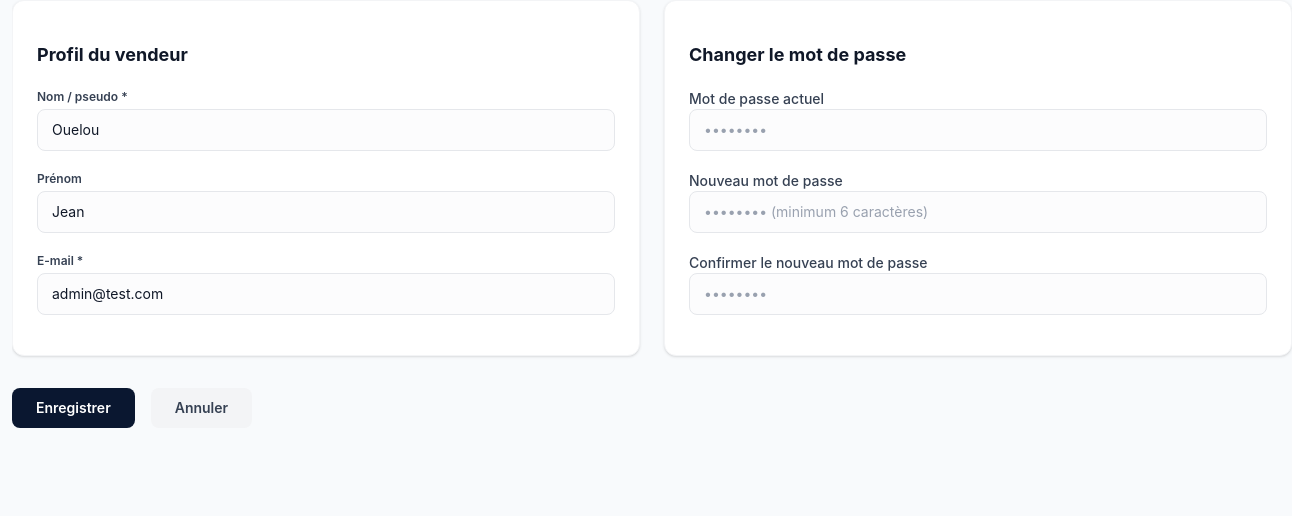
AdminProfileForm — mot de passe › rejette si newPassword !== confirmPassword
Step 1. Type "old" into the password field labelled "Mot de passe actuel" → (978, 130), box [689, 109, 1267, 151]
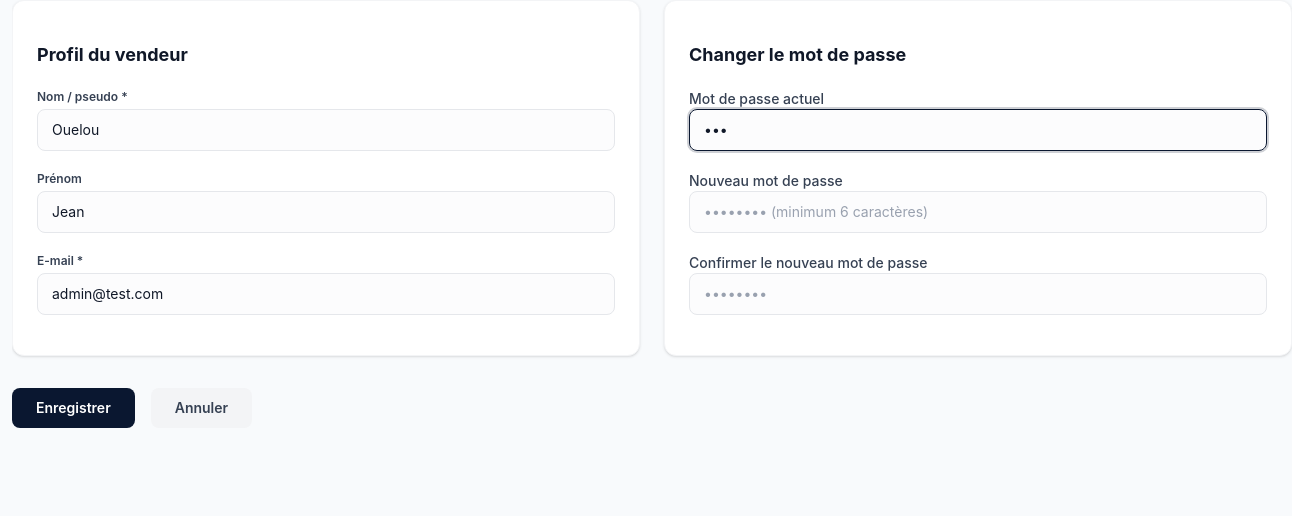
Step 2. Type "newpass123" into the password field labelled "Nouveau mot de passe" → (978, 212), box [689, 191, 1267, 233]
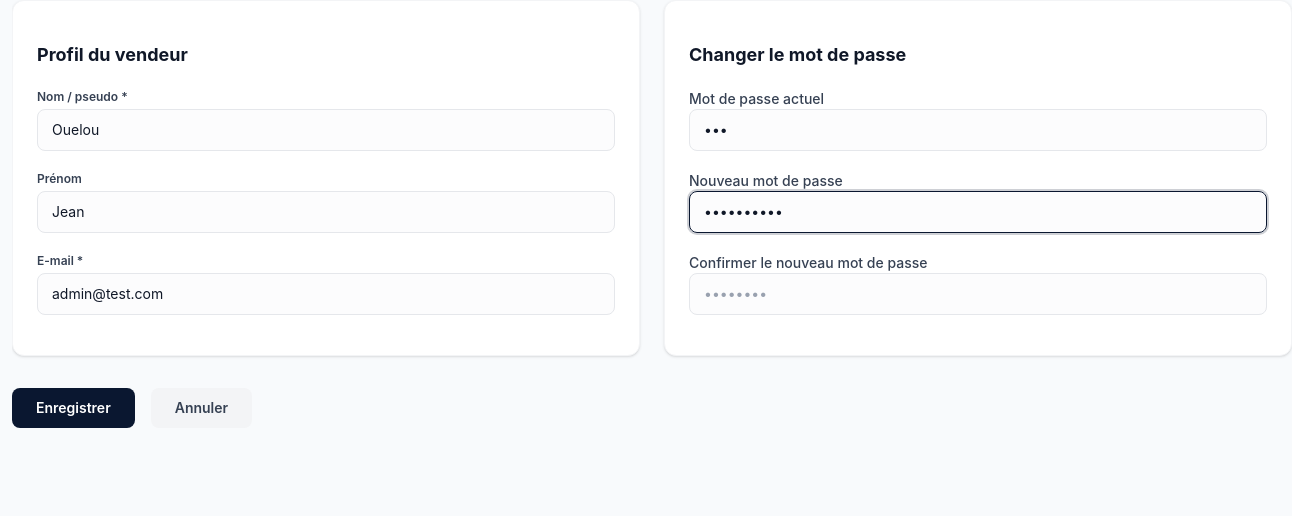
Step 3. Type "different" into the password field labelled "Confirmer le nouveau mot de passe" → (978, 294), box [689, 273, 1267, 315]
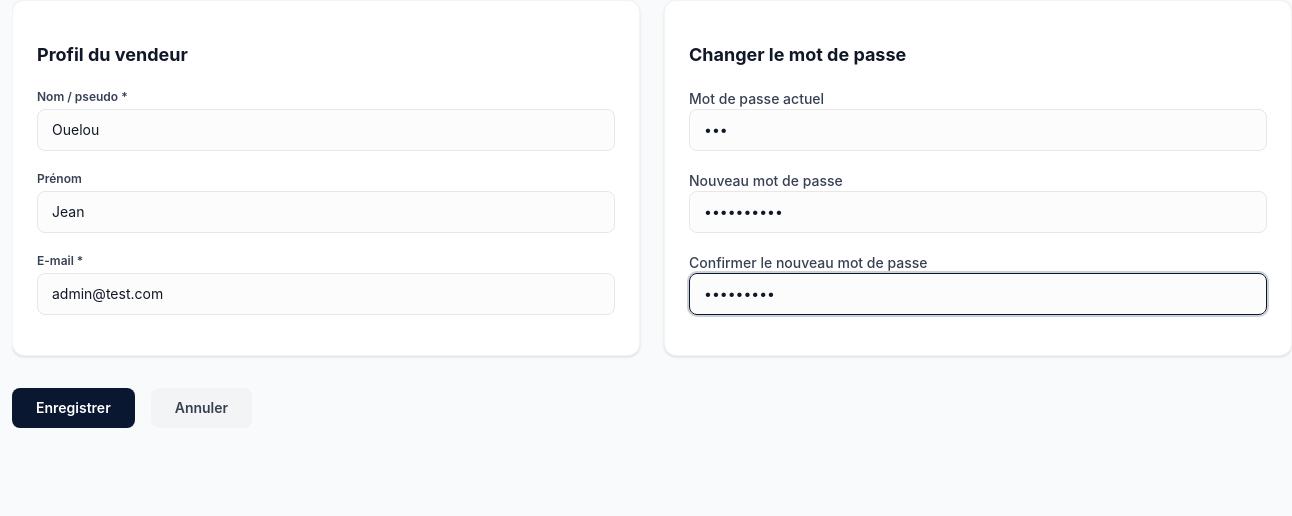
Step 4. Click the button "Enregistrer" → click(73, 408), box [12, 388, 135, 428]
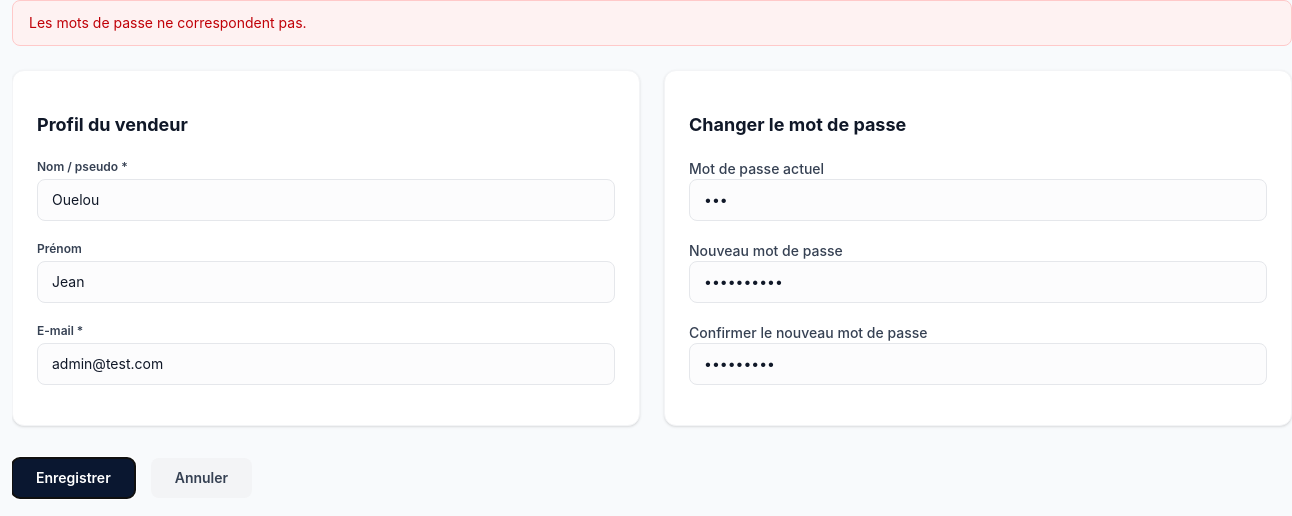
Now the message shows "ne correspondent pas", box [29, 14, 307, 31]
